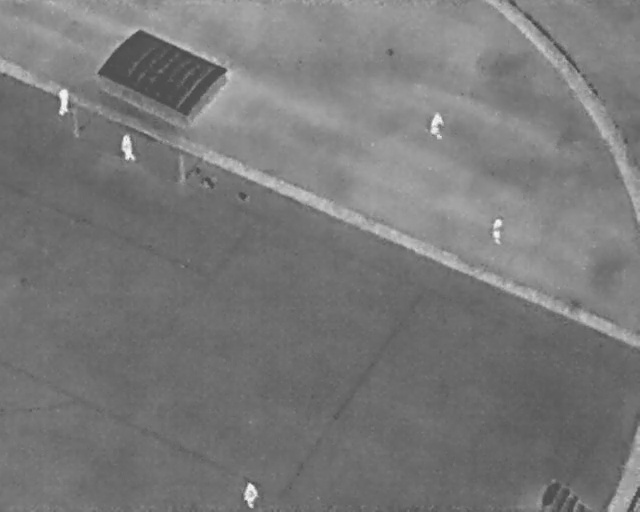Person: (117, 131, 139, 165), (427, 108, 447, 141), (241, 479, 259, 509), (55, 85, 72, 116), (490, 215, 504, 245)
